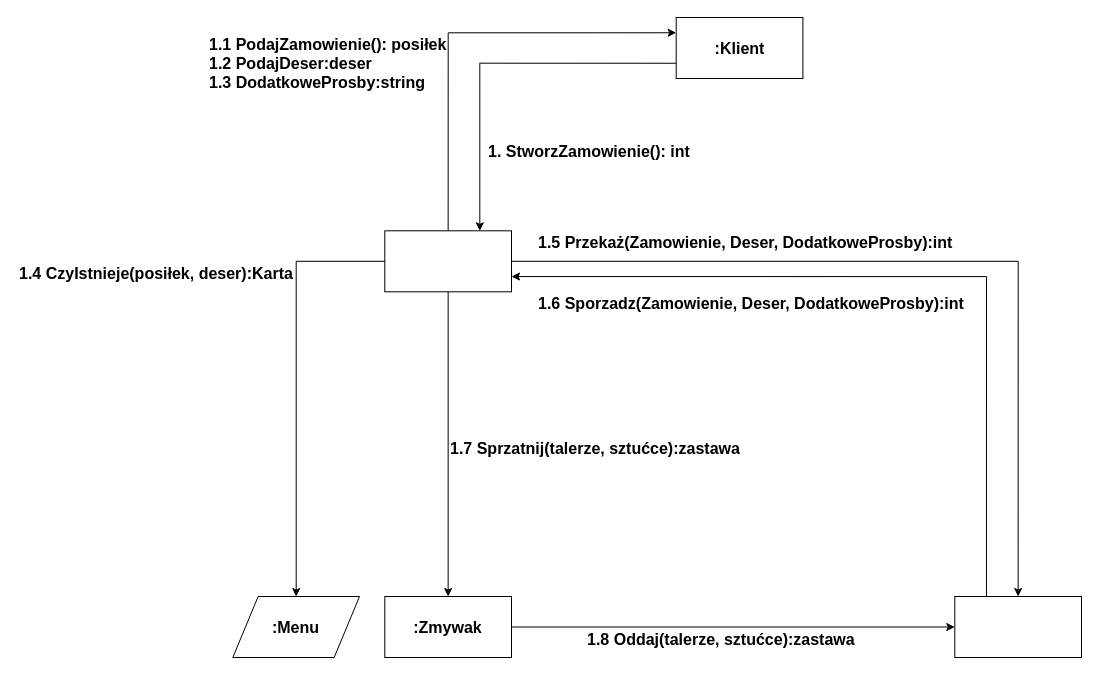
The diagram is 1099 pixels wide and 675 high, and some of its shapes have lost their labels. Here are the shapes that lost their labels. From the top down, the box of each, then its label:
(384, 230, 512, 292): :Kelner
(954, 596, 1082, 658): :Kuchnia
